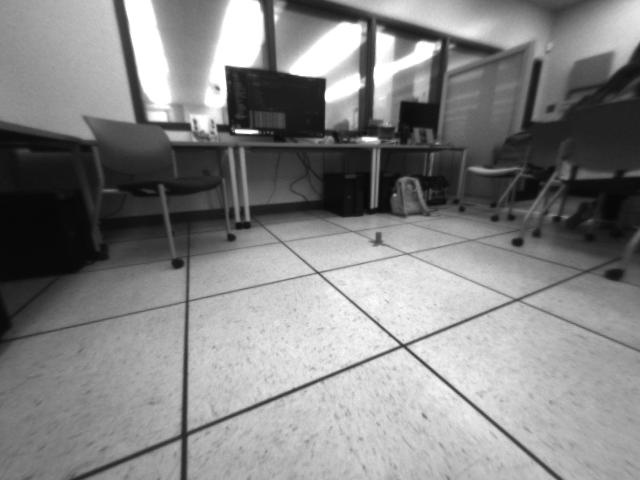X: (366, 230, 390, 249)
